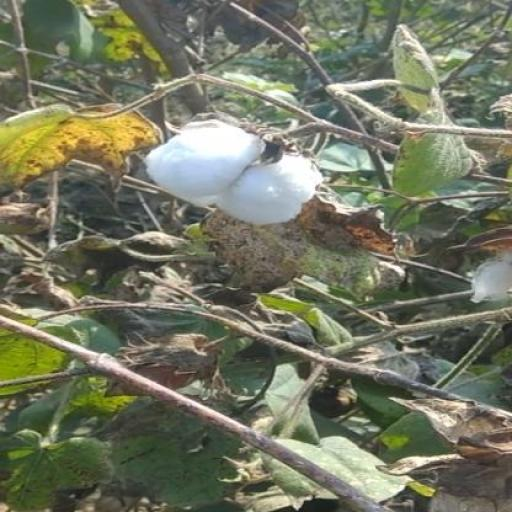cotton_ready: (157, 111, 317, 218)
